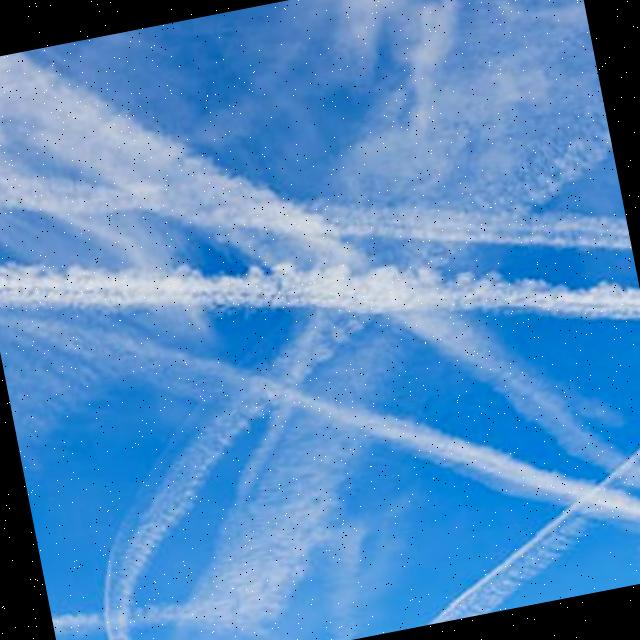Ct: (1, 68, 640, 640)
